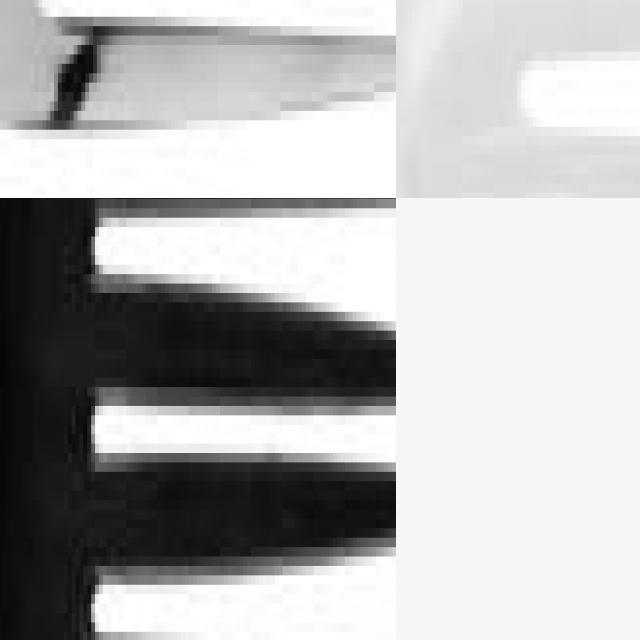forks: (0, 198, 396, 640), (0, 0, 396, 198), (396, 0, 640, 198)
